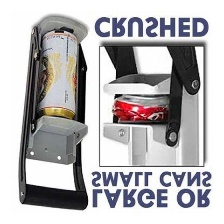can: (34, 28, 83, 120), (109, 92, 172, 127)
